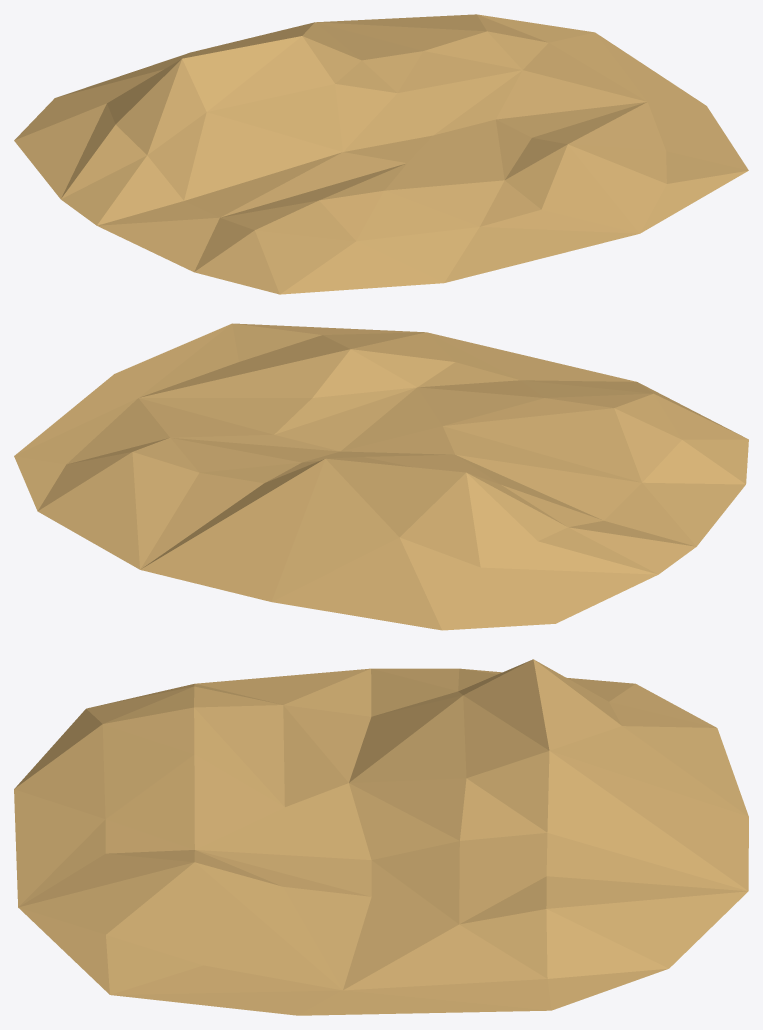
Rendered from TB_D_Env_DuneC_B.FBX.
The picture shows the model from 3 angles, top to bottom: view 1: azimuth 30°, elevation 25°; view 2: azimuth 150°, elevation 25°; view 3: azimuth 270°, elevation 25°; orthographic projection. The views are drawn at different scales.
Visible parts, largest first — view 1: TB_D_Env_DuneC_B; view 2: TB_D_Env_DuneC_B; view 3: TB_D_Env_DuneC_B.
Boxes of the visible parts, bbox=[...] form: TB_D_Env_DuneC_B: bbox=[14, 14, 748, 294]; TB_D_Env_DuneC_B: bbox=[14, 323, 748, 630]; TB_D_Env_DuneC_B: bbox=[14, 659, 748, 1015].
Size of the model in its own units: 15.72 by 2.11 by 14.07.
